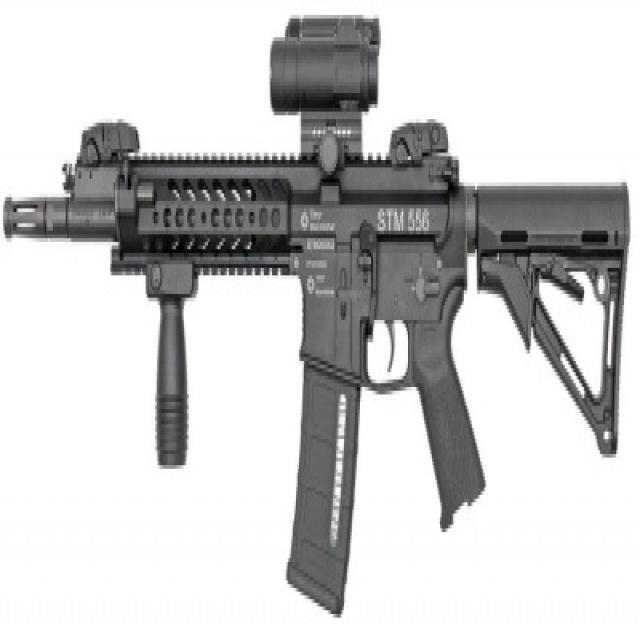rifle: (1, 8, 639, 622)
